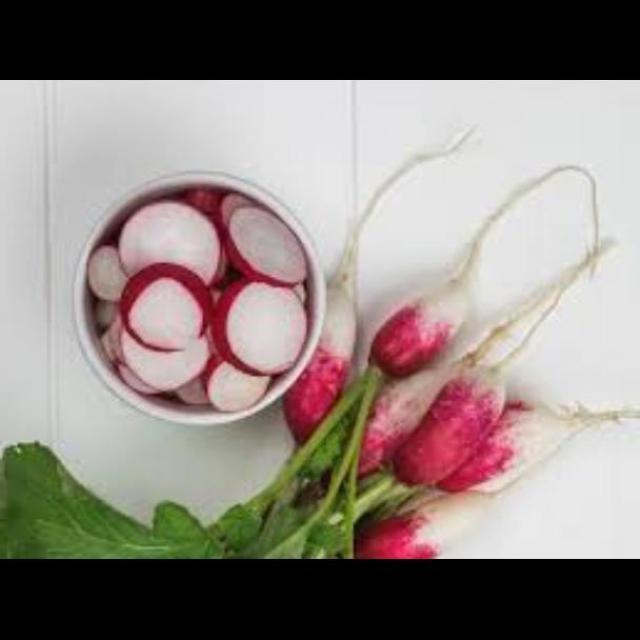rediska: (82, 194, 314, 417), (346, 335, 486, 488), (384, 353, 516, 504), (426, 402, 598, 499), (284, 264, 369, 454), (381, 250, 488, 400), (359, 484, 506, 560)
